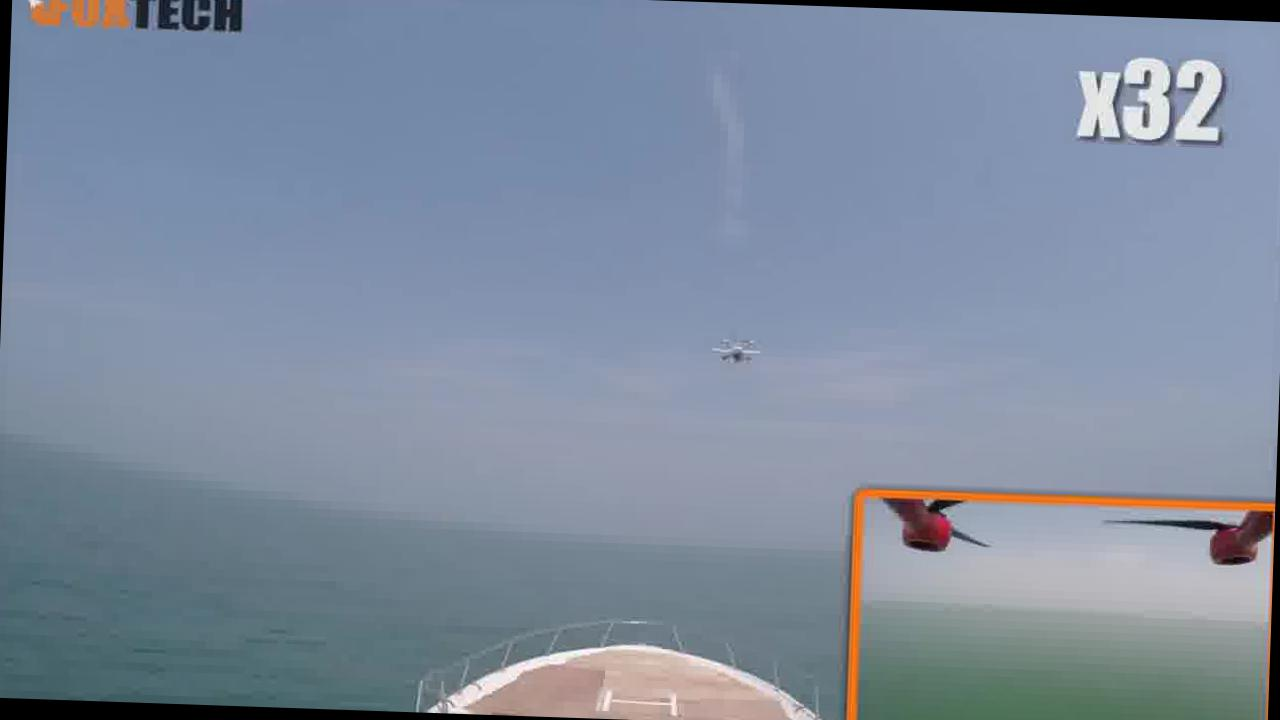drone: (698, 323, 778, 378)
